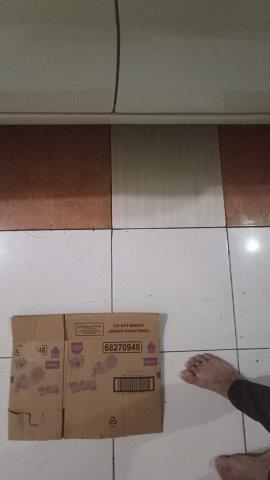kardus: (12, 315, 163, 439)
